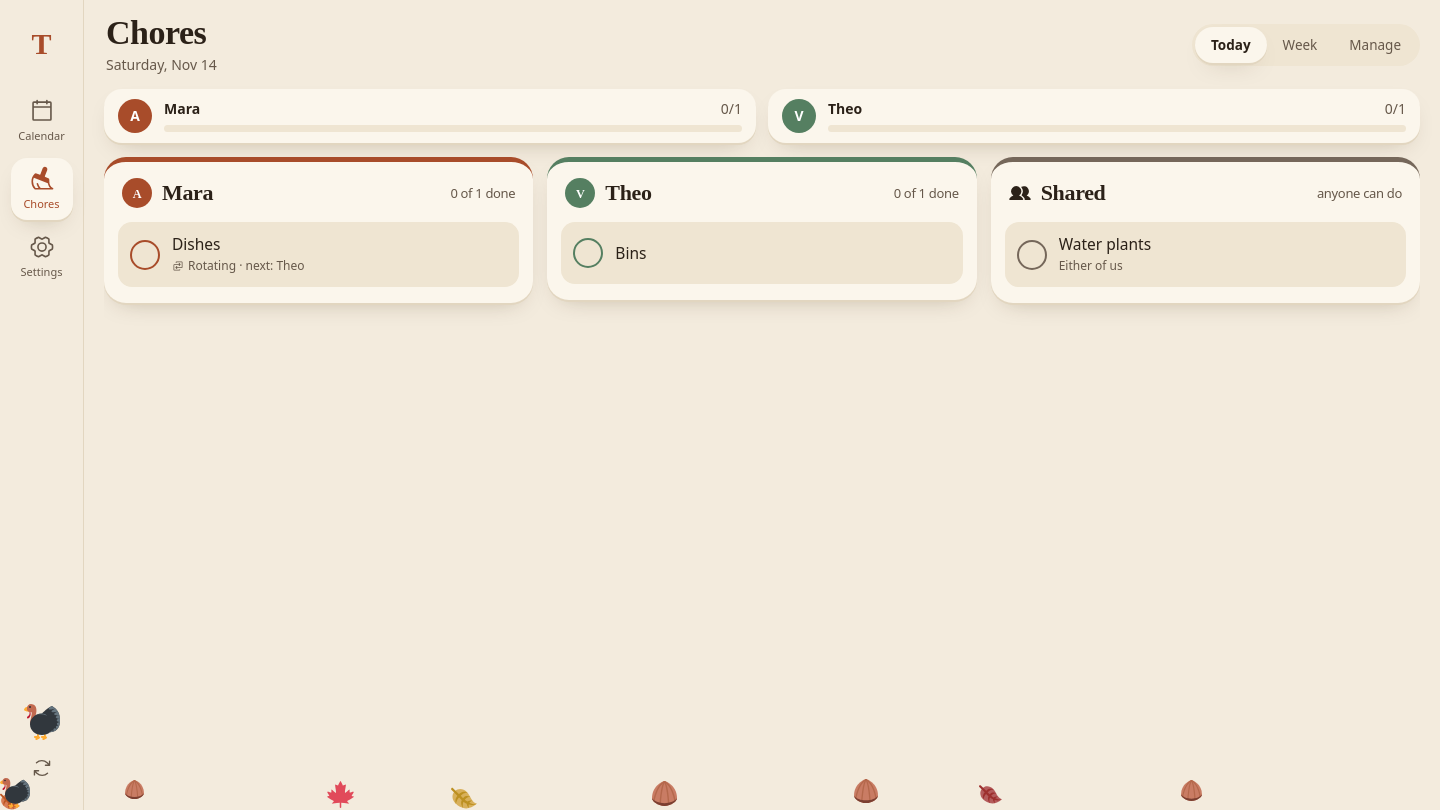
chores today › lets the other member take credit, and either chores complete with one pick
Click the button "Bins" at (631, 253), box [561,222,963,284]
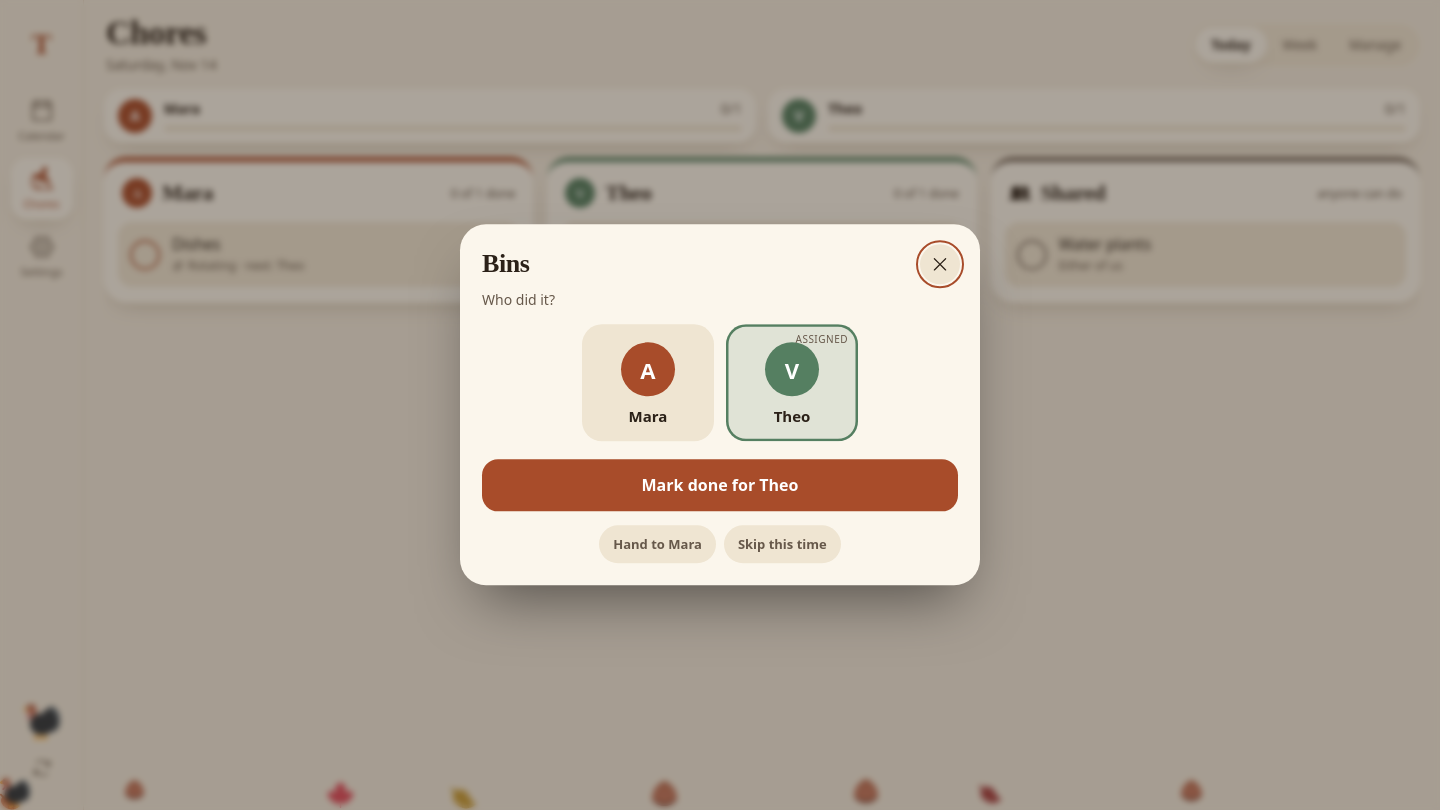
Click the button "A Mara" at (648, 383), box [582,324,714,441]
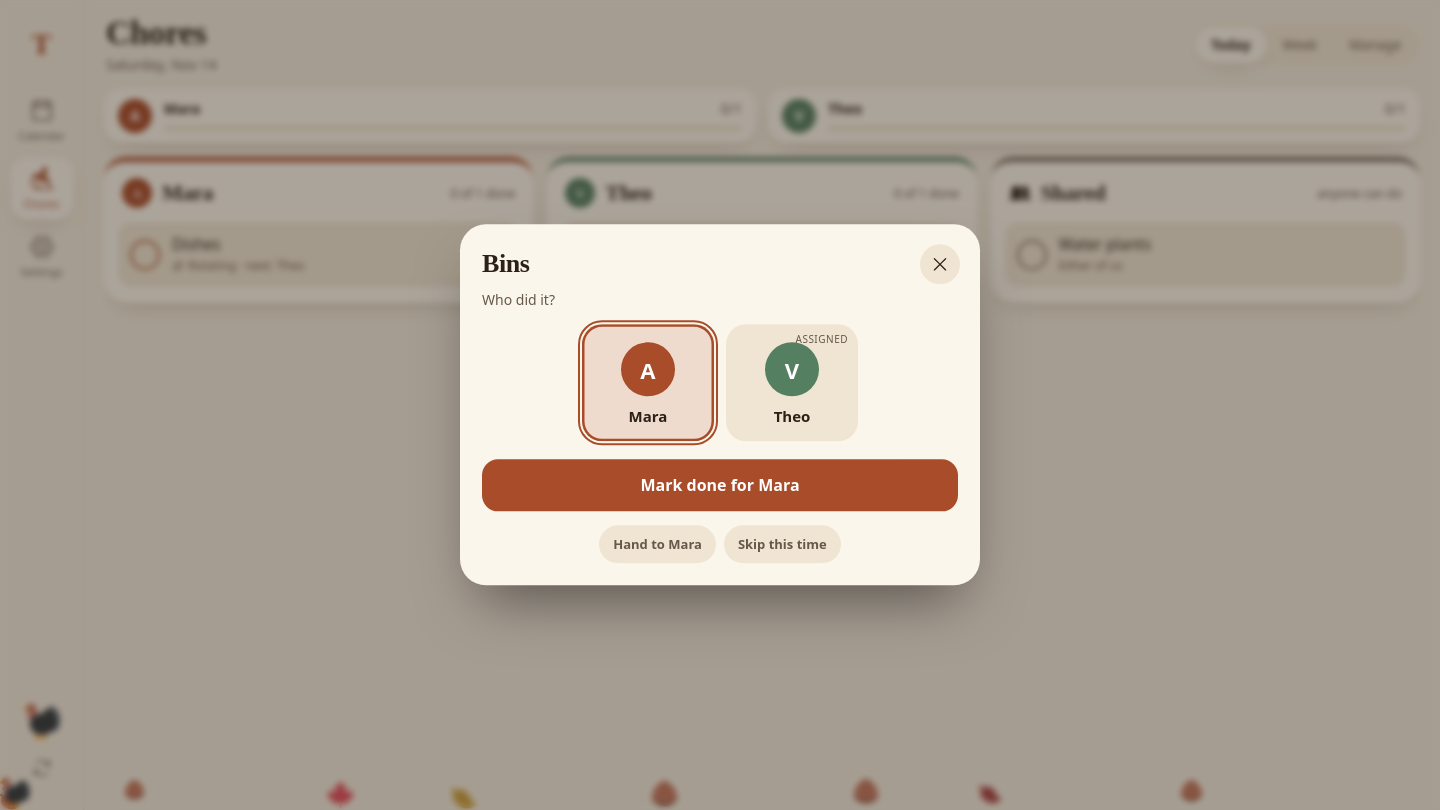
Click the button "Mark done for Mara" at (720, 486), box [482,459,958,512]
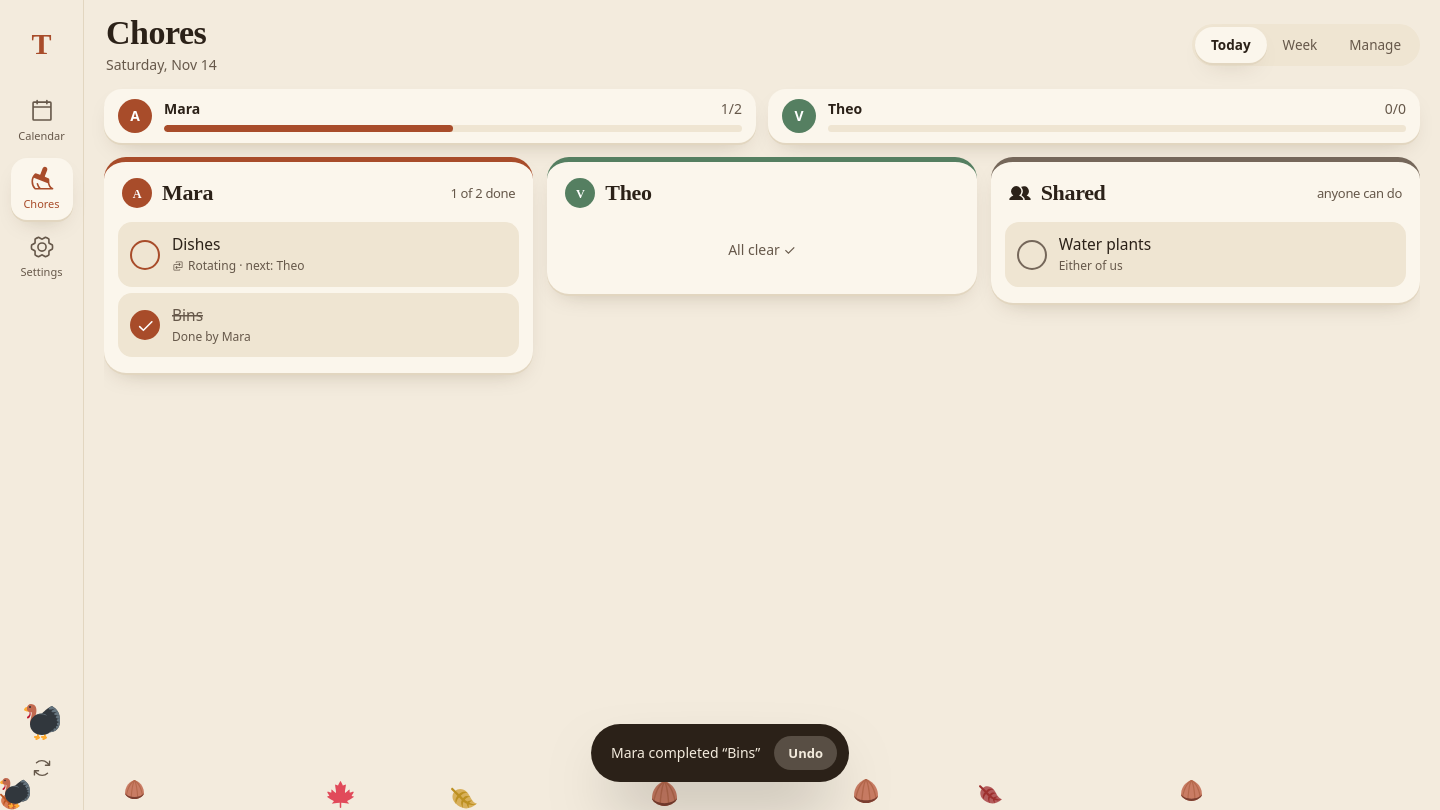
Click the button "Water plants Either of us" at (1105, 244), box [1005,222,1406,287]
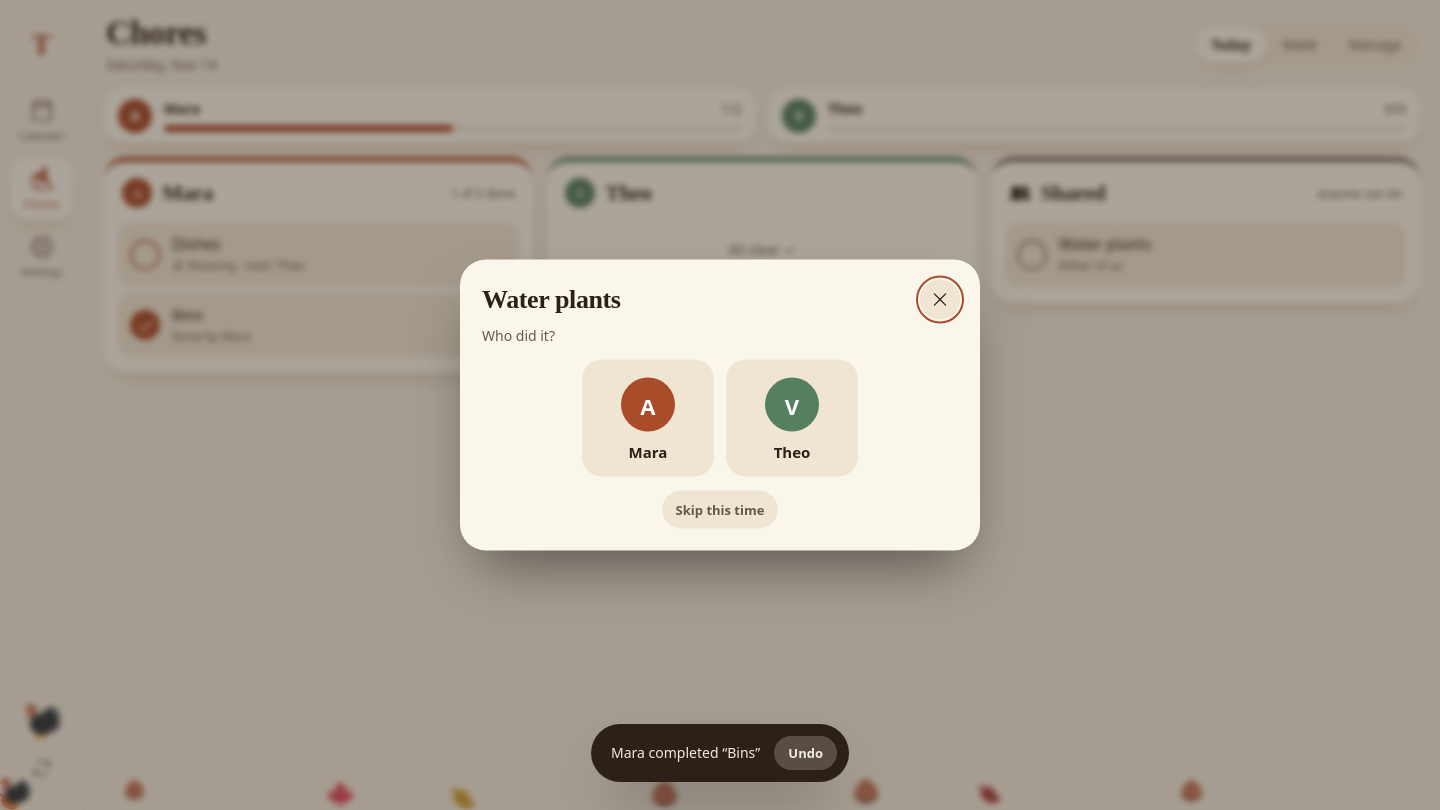
Expected: the button "Mark done" is not shown
Click the button "V Theo" at (792, 418), box [726,360,858,476]
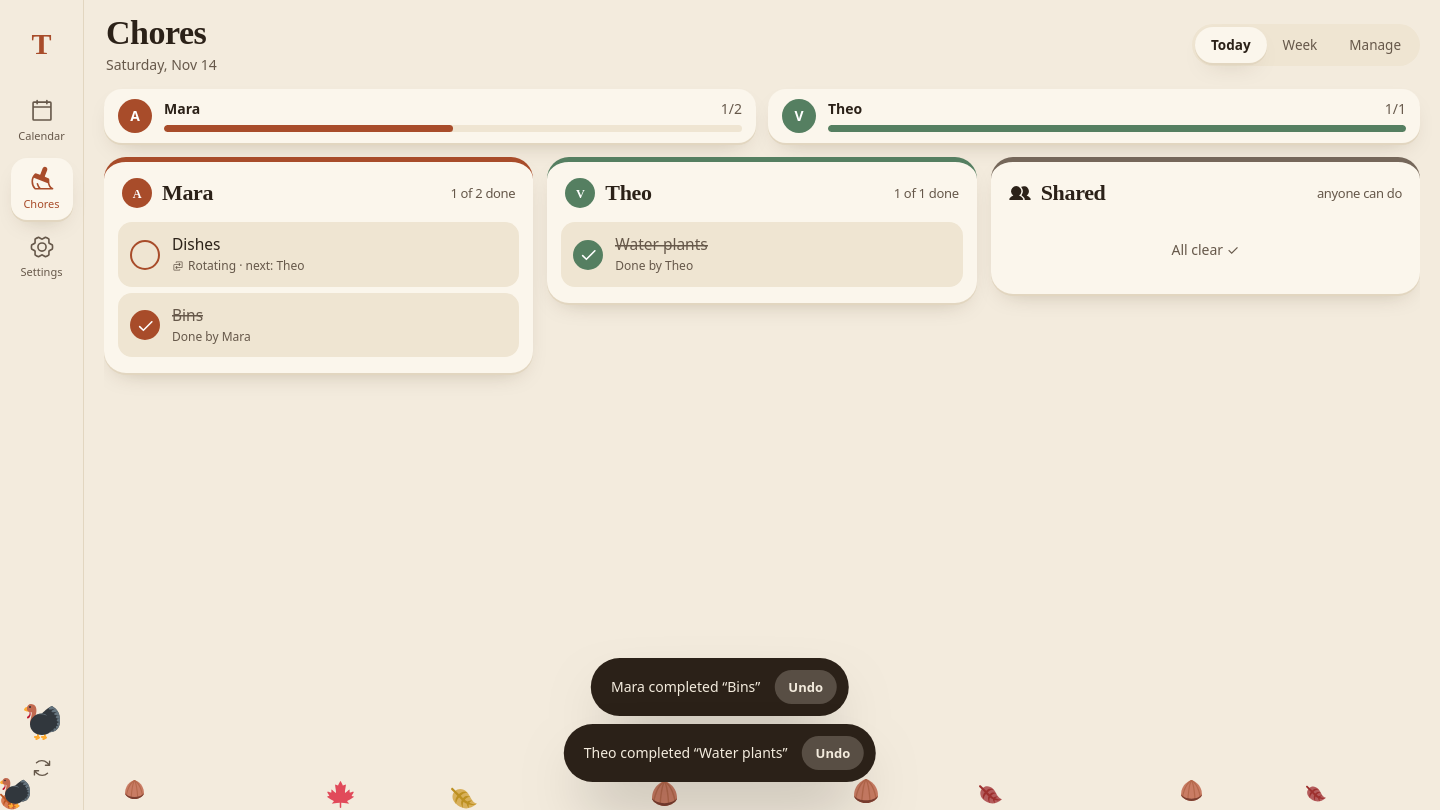
Result: the button with aria-label "Water plants, done" is shown at [561,222,963,287]
